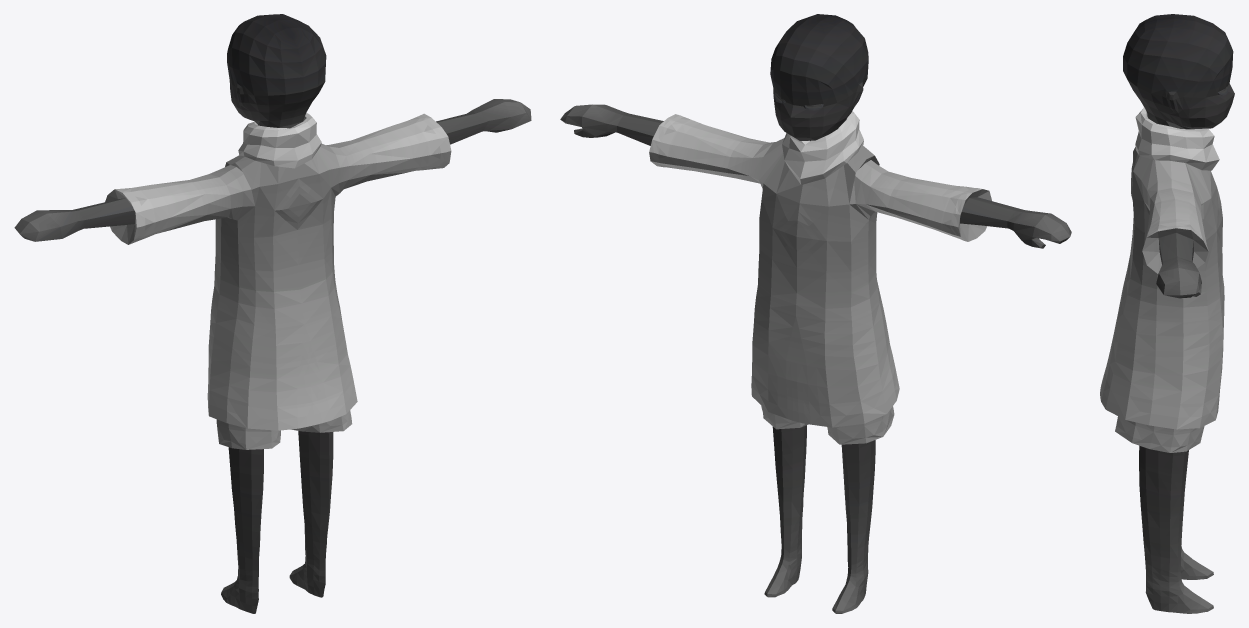
Rendered from CharSkyKid_Body_Ghost.glb.
3 renders of one model, left to right at view 1: azimuth 30°, elevation 25°; view 2: azimuth 150°, elevation 25°; view 3: azimuth 270°, elevation 25°, orthographic.
Visible parts, largest first — view 1: CharSkyKid_Body_Ghost; view 2: CharSkyKid_Body_Ghost; view 3: CharSkyKid_Body_Ghost.
Part boxes in pixels (bbox=[...]): CharSkyKid_Body_Ghost: bbox=[14, 14, 531, 613]; CharSkyKid_Body_Ghost: bbox=[560, 14, 1071, 613]; CharSkyKid_Body_Ghost: bbox=[1100, 14, 1234, 613].
Size of the model in its own units: 13.83 by 14.94 by 3.18.
Materials: 1 (1 with a texture image).
